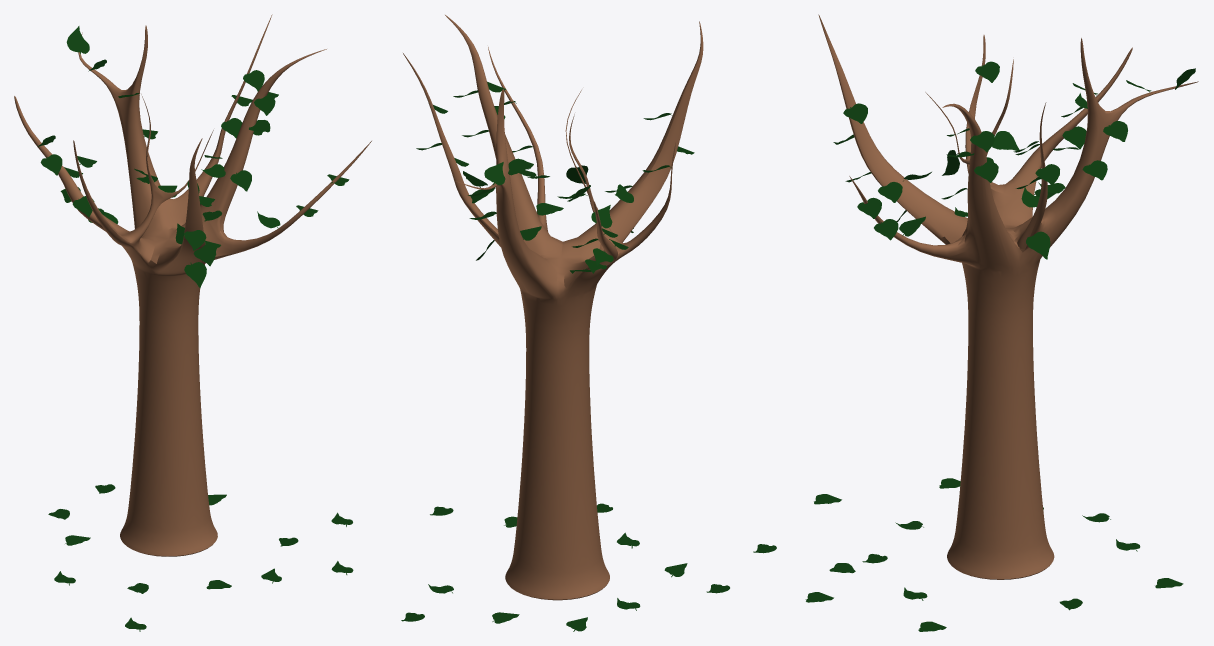
Rendered from tree.fbx.
3 views of the same model, side by side, from view 1: azimuth 30°, elevation 25°; view 2: azimuth 150°, elevation 25°; view 3: azimuth 270°, elevation 25° (orthographic). The views are drawn at different scales.
Parts seen in each view (by area): view 1: Cylinder; view 2: Cylinder; view 3: Cylinder.
Boxes of the visible parts, box(x1,y1,x2,y2) form: Cylinder: box(14, 14, 371, 556); Cylinder: box(403, 15, 703, 600); Cylinder: box(818, 14, 1198, 579).
Bounding box in the file's own units: 425 × 696 × 465.
